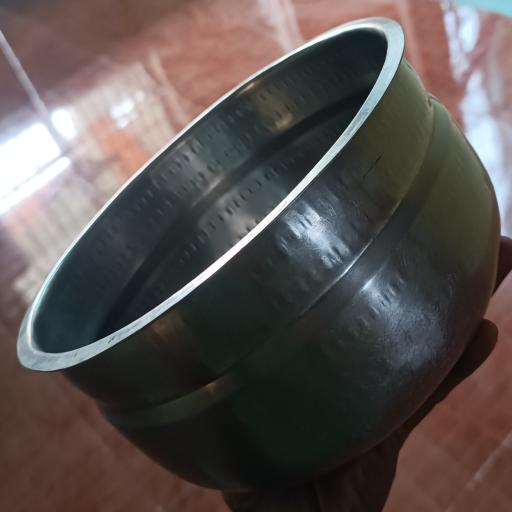vessel: (18, 18, 499, 489)
